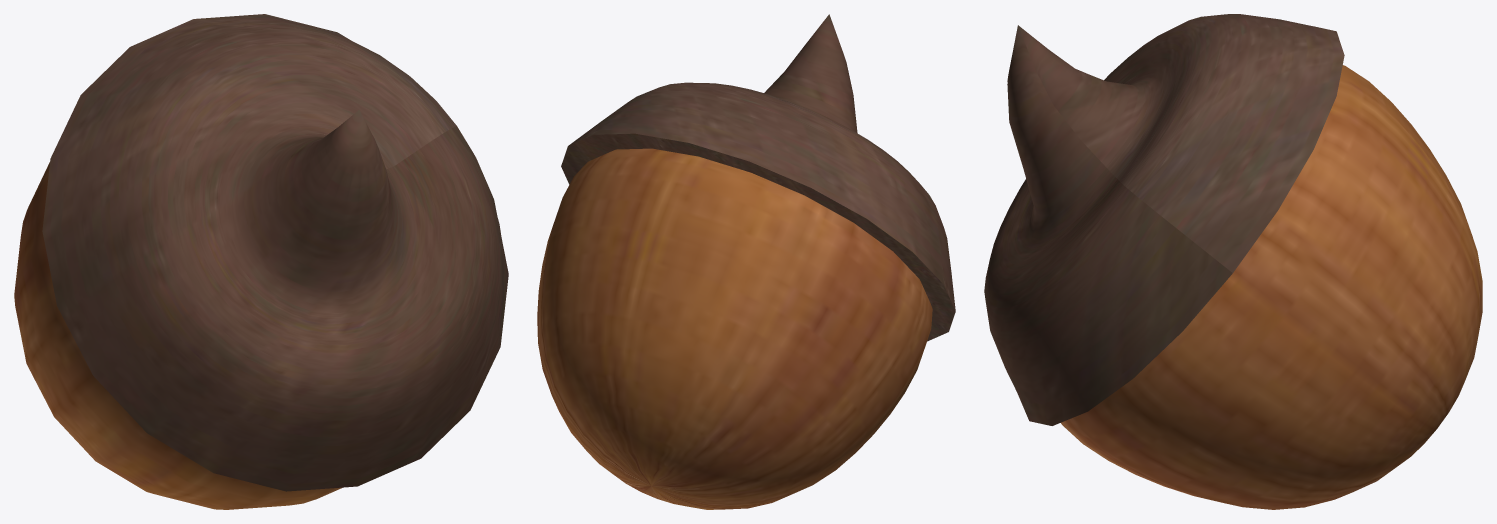
File: Oak Nut.fbx
The picture shows the model from 3 angles, left to right: view 1: azimuth 30°, elevation 25°; view 2: azimuth 150°, elevation 25°; view 3: azimuth 270°, elevation 25°; orthographic projection. The views are drawn at different scales.
Visible parts, largest first — view 1: pCone2, pSphere1; view 2: pSphere1, pCone2; view 3: pSphere1, pCone2.
Boxes of the visible parts, box(x1,y1,x2,y2) form: pCone2: box(42, 14, 508, 491); pSphere1: box(14, 162, 342, 509); pSphere1: box(537, 148, 932, 509); pCone2: box(561, 14, 955, 341); pSphere1: box(1061, 65, 1482, 509); pCone2: box(984, 14, 1344, 425).
Bounding box in the file's own units: 2.32 × 2.4 × 2.33.
2 materials, 2 textured.
